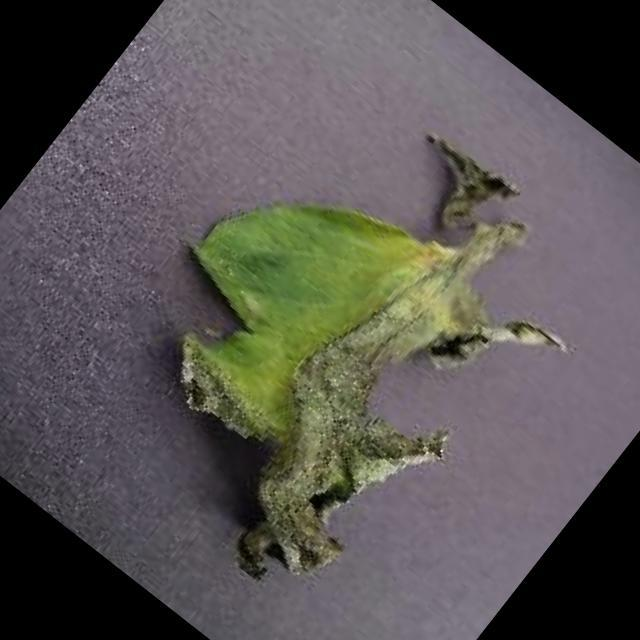Tomato late blight leaf: (48, 51, 616, 640)
